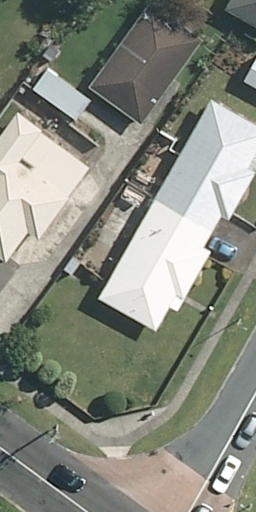DT: (42, 422, 69, 445)
